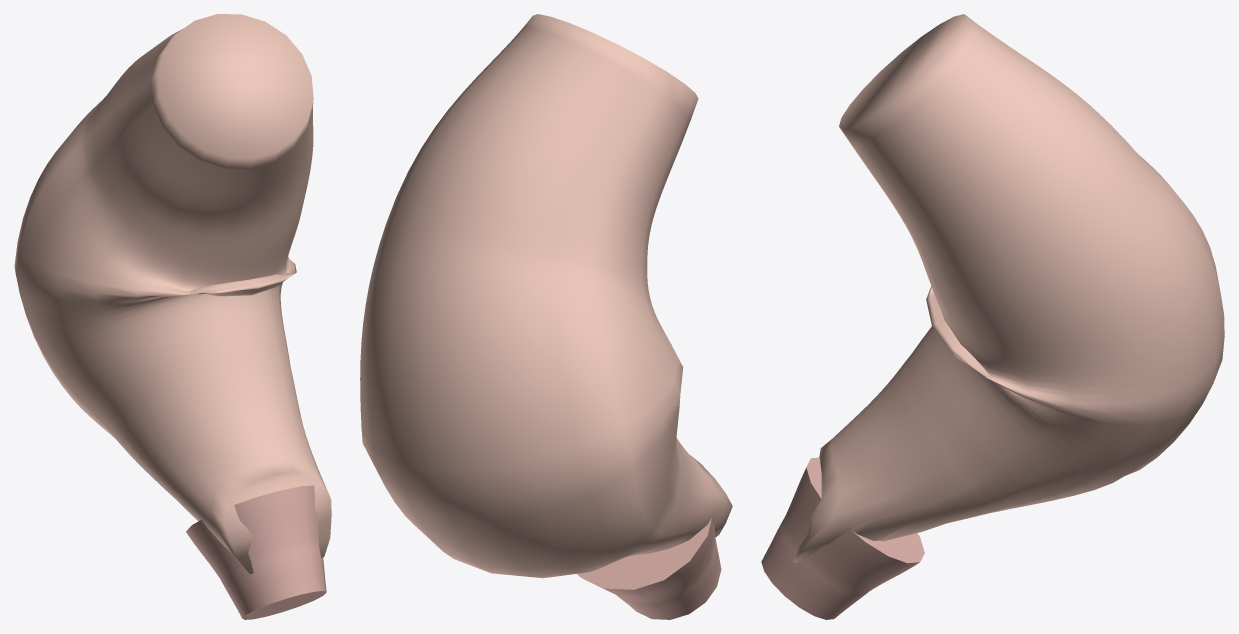
The model's file is rectum.glb.
3 views of the same model, side by side, from view 1: azimuth 30°, elevation 25°; view 2: azimuth 150°, elevation 25°; view 3: azimuth 270°, elevation 25° (orthographic). The views are drawn at different scales.
Visible parts, largest first — view 1: Rectum, Anal canal; view 2: Rectum, Anal canal; view 3: Rectum, Anal canal.
Part boxes in pixels (x1,y1,x2,y2): Rectum: [14, 14, 331, 574]; Anal canal: [186, 485, 326, 619]; Rectum: [360, 14, 732, 578]; Anal canal: [577, 518, 721, 619]; Rectum: [793, 14, 1224, 562]; Anal canal: [761, 457, 924, 619].
Size of the model in its own units: 0.0319 by 0.069 by 0.0489.
